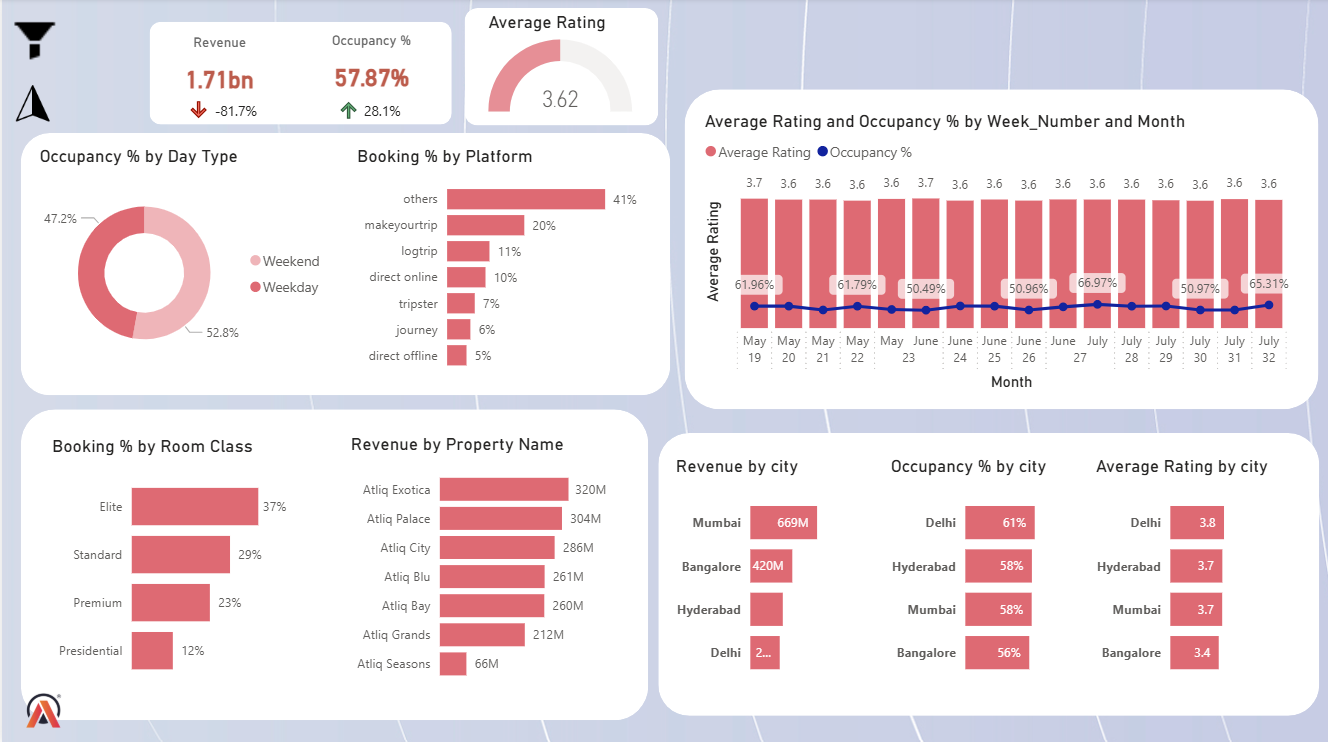

This screenshot's page, from the dashboard's own definition file:
{"tool":"powerbi","page":{"name":"Dashboard 2","canvas":[1280,720],"ordinal":2},"visuals":[{"type":"shape","box":[446.4,9.7,187,113.4],"z":0},{"type":"shape","box":[142.7,22.3,291.7,99.3],"z":1000},{"type":"shape","box":[633.1,419.6,638,273.1],"z":2000},{"type":"shape","box":[18.6,130.3,626.9,253.2],"z":3000},{"type":"shape","box":[658.8,88.3,612,309.1],"z":4000},{"type":"shape","box":[18.6,397.2,605.7,300.4],"z":5000},{"type":"gauge","fields":{"Y":["Key Measures.Average Rating"]},"box":[464.2,13.7,149,104.3],"z":6000},{"type":"clusteredBarChart","fields":{"Category":["dim_hotels.city"],"Y":["Key Measures.Revenue"]},"box":[639.5,441.4,228.7,229.9],"z":7000},{"type":"clusteredBarChart","fields":{"Category":["dim_hotels.city"],"Y":["Key Measures.Occupancy %"]},"box":[853,441.2,177.5,229.6],"z":8000},{"type":"clusteredBarChart","fields":{"Category":["dim_hotels.city"],"Y":["Key Measures.Average Rating"]},"box":[1050.4,441.2,191.2,229.6],"z":9000},{"type":"donutChart","title":"Occupancy % by Day Type","fields":{"Category":["dim_date.Weekday_Weekend"],"Y":["Key Measures.Occupancy %"]},"box":[31,142.7,289.2,227.2],"z":10000},{"type":"clusteredBarChart","title":"Booking % by Platform","fields":{"Category":["fact_bookings.booking_platform"],"Y":["Key Measures.Booking % by Platform"]},"box":[337.8,142.4,285.9,228],"z":11000},{"type":"lineClusteredColumnComboChart","fields":{"Category":["dim_date.Week_Number","dim_date.mmm yy.Variation.Date Hierarchy.Month"],"Y2":["Key Measures.Occupancy %"],"Y":["Key Measures.Average Rating"]},"box":[673.5,108.6,581.3,274.7],"z":12000},{"type":"card","title":"Revenue","fields":{"Values":["Key Measures.Revenue"]},"box":[149.9,35.3,121,72.3],"z":13000},{"type":"card","title":"Occupancy %","fields":{"Values":["Key Measures.Occupancy %"]},"box":[297.1,33.9,119.8,70.9],"z":14000},{"type":"tableEx","title":"test","fields":{"Values":["Key Measures.Revenue WOW% change"]},"box":[175,77,89.4,43.4],"z":15000},{"type":"tableEx","title":"test","fields":{"Values":["Key Measures.Occupancy WoW % change"]},"box":[320.3,77,74.5,41],"z":16000},{"type":"image","title":"filter","box":[7,13.9,48.7,52.9],"z":18000},{"type":"image","title":"navigation icon","box":[7.2,73.7,44.8,56.4],"z":19000},{"type":"clusteredBarChart","title":"Booking % by Room Class","fields":{"Category":["dim_rooms.room_class"],"Y":["Key Measures.Booking % by Room class"]},"box":[43.4,422.3,236.5,250.9],"z":21000},{"type":"clusteredBarChart","title":"Revenue by Property Name","fields":{"Category":["dim_hotels.property_name"],"Y":["Key Measures.Revenue"]},"box":[331.8,419.8,257,250.9],"z":22000},{"type":"image","box":[0,666,80.8,43.4],"z":23000}]}

Visuals, with their boxes in screenshot pixels (x1, y1, x2, y2), scaled from the page's 1280x720 canvas onto the 1328x742 screenshot:
shape: l=463, t=10, r=657, b=127
shape: l=148, t=23, r=451, b=125
shape: l=657, t=432, r=1319, b=714
shape: l=19, t=134, r=670, b=395
shape: l=684, t=91, r=1318, b=410
shape: l=19, t=409, r=648, b=719
gauge - Key Measures.Average Rating: l=482, t=14, r=636, b=122
clusteredBarChart - dim_hotels.city x Key Measures.Revenue: l=663, t=455, r=901, b=692
clusteredBarChart - dim_hotels.city x Key Measures.Occupancy %: l=885, t=455, r=1069, b=691
clusteredBarChart - dim_hotels.city x Key Measures.Average Rating: l=1090, t=455, r=1288, b=691
"Occupancy % by Day Type" donutChart: l=32, t=147, r=332, b=381
"Booking % by Platform" clusteredBarChart: l=350, t=147, r=647, b=382
lineClusteredColumnComboChart - dim_date.Week_Number x dim_date.mmm yy.Variation.Date Hierarchy.Month: l=699, t=112, r=1302, b=395
"Revenue" card: l=156, t=36, r=281, b=111
"Occupancy %" card: l=308, t=35, r=433, b=108
"test" tableEx: l=182, t=79, r=274, b=124
"test" tableEx: l=332, t=79, r=410, b=122
"filter" image: l=7, t=14, r=58, b=69
"navigation icon" image: l=7, t=76, r=54, b=134
"Booking % by Room Class" clusteredBarChart: l=45, t=435, r=290, b=694
"Revenue by Property Name" clusteredBarChart: l=344, t=433, r=611, b=691
image: l=0, t=686, r=84, b=731
